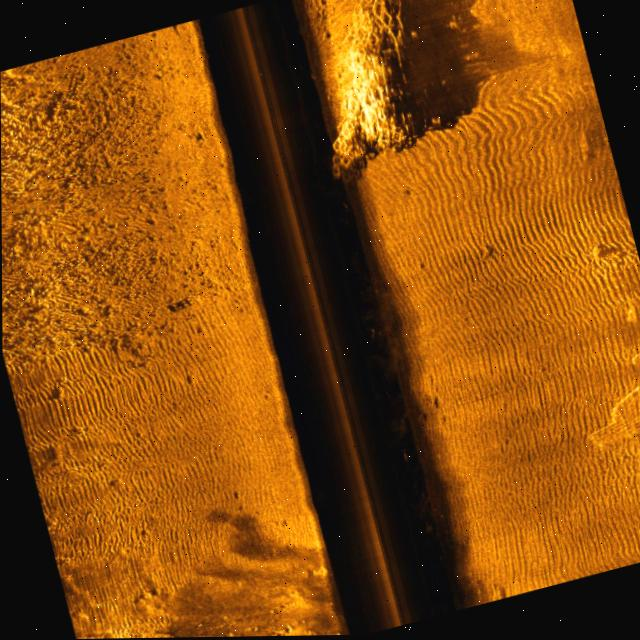artificial reef: (281, 0, 461, 189)
